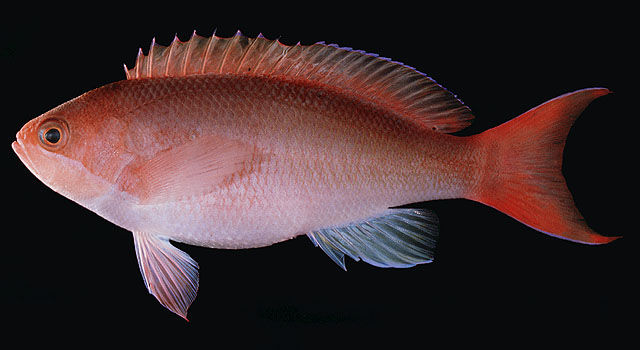fish: (12, 28, 620, 323)
